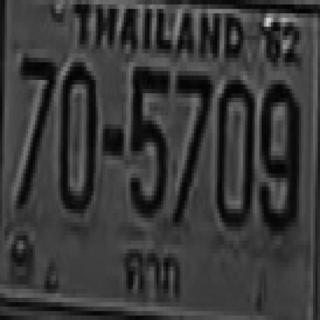N00: (58, 58, 96, 209), (215, 76, 252, 226)
N05: (128, 62, 168, 213)
N07: (172, 71, 211, 222), (18, 54, 55, 204)
N09: (258, 78, 298, 229)
P69: (120, 243, 185, 306)
